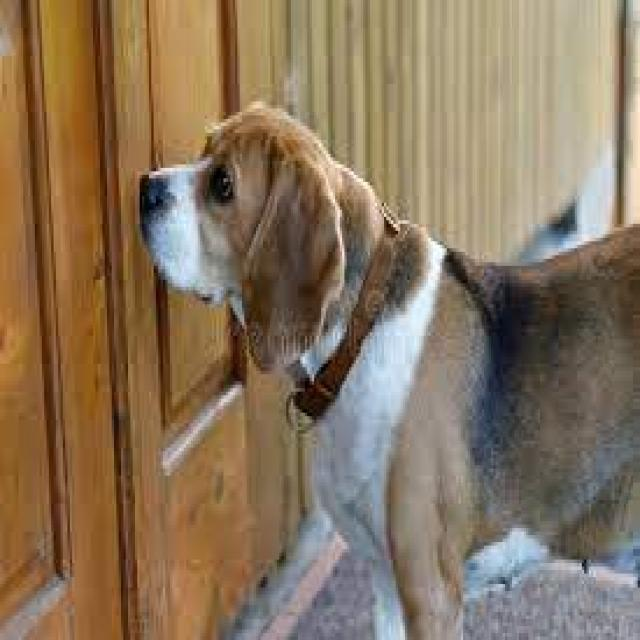Dog: (133, 90, 640, 640)
